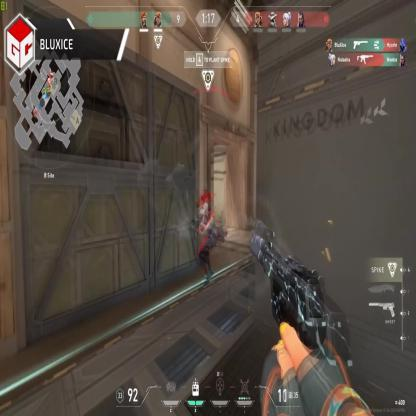enemy: (197, 200, 216, 280)
enemy_head: (201, 200, 209, 220)
